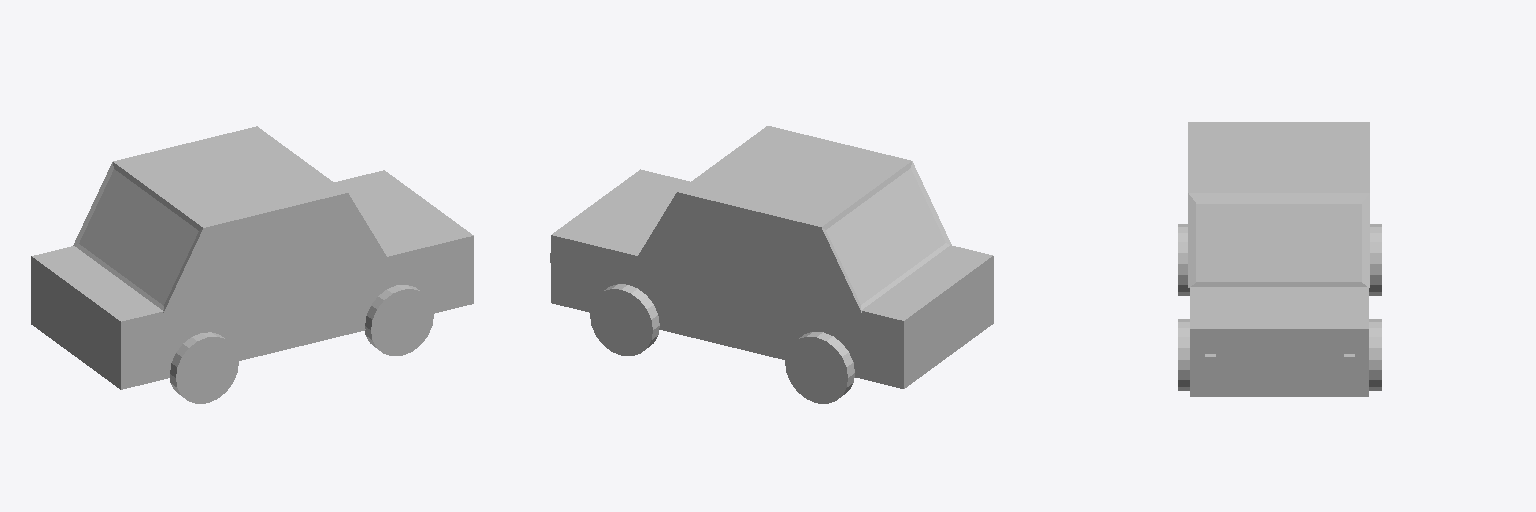
Rendered from car_Red.obj.
3 renders of one model, left to right at view 1: azimuth 30°, elevation 25°; view 2: azimuth 150°, elevation 25°; view 3: azimuth 270°, elevation 25°, orthographic.
Parts seen in each view (by area): view 1: pCylinder73; view 2: pCylinder73; view 3: pCylinder73.
Part boxes in pixels (x1,y1,x2,y2): pCylinder73: (31, 126, 473, 403); pCylinder73: (550, 126, 993, 403); pCylinder73: (1178, 122, 1381, 396).
Size of the model in its own units: 6.02 by 2.73 by 2.96.